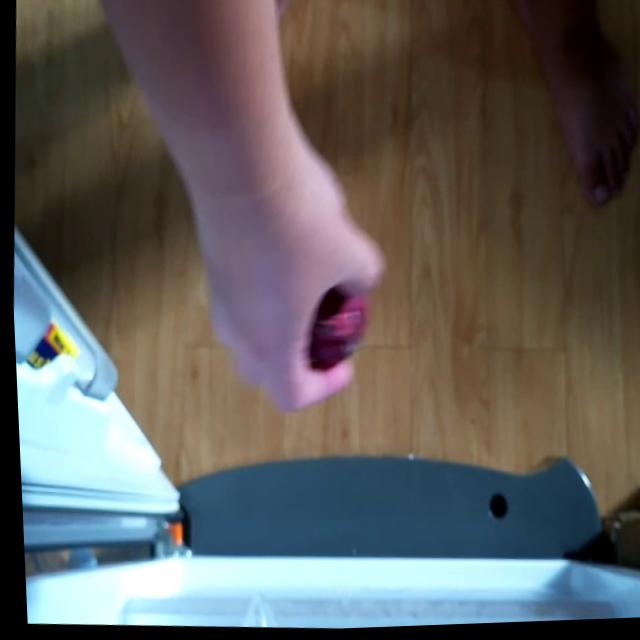onion: (309, 275, 371, 377)
